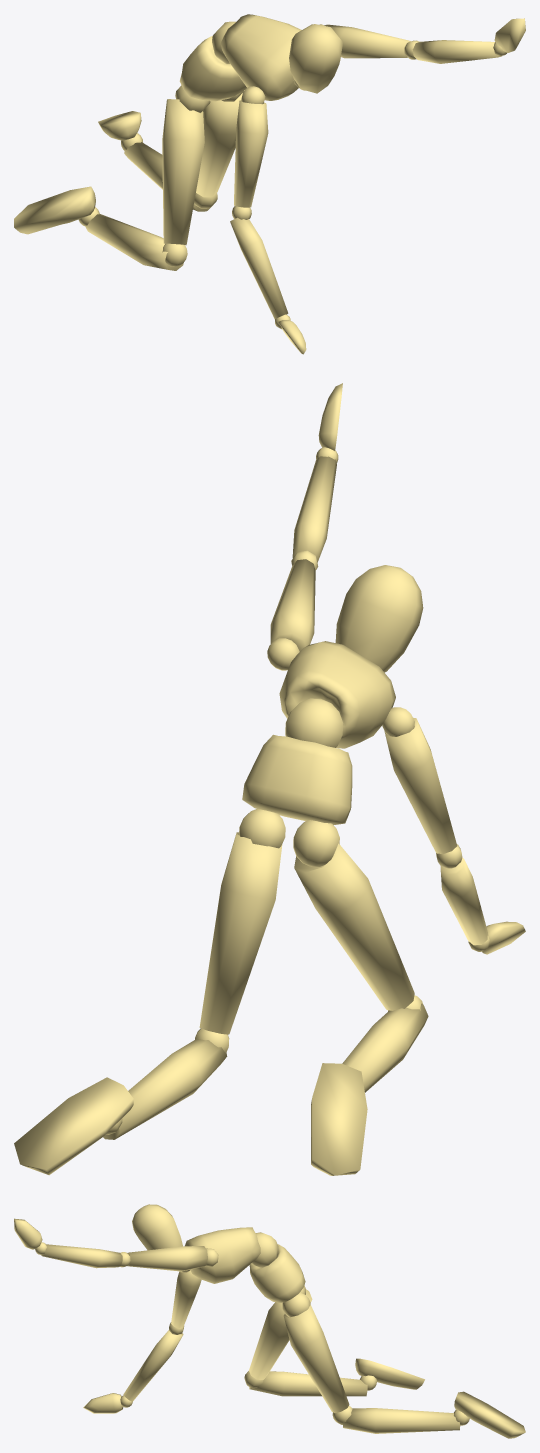
File: mann-trapped.fbx
3 views of the same model, one above another, from view 1: azimuth 30°, elevation 25°; view 2: azimuth 150°, elevation 25°; view 3: azimuth 270°, elevation 25° (orthographic). The views are drawn at different scales.
Visible parts, largest first — view 1: Cylinder.001, Cylinder.003, Cylinder.002, Cylinder.006, Cylinder.004, Sphere.008, Sphere, Cylinder, Cylinder.005, Cylinder.009, Cylinder.008, Sphere.014 (+3 smaller); view 2: Cylinder.002, Cylinder.006, Cylinder.003, Cylinder.001, Sphere.008, Sphere.014, Sphere, Cylinder.004, Cylinder.007, Cylinder, Cylinder.009, Cylinder.008 (+3 smaller); view 3: Cylinder.006, Cylinder.002, Cylinder.003, Cylinder.007, Cylinder.001, Cylinder.009, Sphere.008, Cylinder, Sphere.014, Cylinder.005, Cylinder.008, Sphere (+3 smaller).
Boxes of the visible parts, x1=… form: Cylinder.001: x1=162, y1=99, x2=204, y2=266; Cylinder.003: x1=220, y1=14, x2=323, y2=104; Cylinder.002: x1=175, y1=21, x2=246, y2=112; Cylinder.006: x1=194, y1=90, x2=244, y2=208; Cylinder.004: x1=232, y1=100, x2=268, y2=219; Sphere.008: x1=289, y1=24, x2=342, y2=93; Sphere: x1=14, y1=186, x2=99, y2=234; Cylinder: x1=85, y1=214, x2=183, y2=270; Cylinder.005: x1=230, y1=217, x2=288, y2=319; Cylinder.009: x1=324, y1=24, x2=419, y2=59; Cylinder.008: x1=412, y1=40, x2=501, y2=63; Sphere.014: x1=98, y1=111, x2=142, y2=150; Cylinder.002: x1=239, y1=698, x2=352, y2=866; Cylinder.006: x1=195, y1=832, x2=282, y2=1053; Cylinder.003: x1=267, y1=638, x2=414, y2=748; Cylinder.001: x1=294, y1=843, x2=422, y2=1011; Sphere.008: x1=335, y1=565, x2=423, y2=672; Sphere.014: x1=14, y1=1077, x2=133, y2=1175; Sphere: x1=311, y1=1063, x2=367, y2=1175; Cylinder.004: x1=384, y1=717, x2=462, y2=868; Cylinder.007: x1=103, y1=1039, x2=227, y2=1139; Cylinder: x1=342, y1=1003, x2=428, y2=1092; Cylinder.009: x1=270, y1=550, x2=318, y2=651; Cylinder.008: x1=292, y1=456, x2=336, y2=562; Cylinder.006: x1=283, y1=1305, x2=352, y2=1424; Cylinder.002: x1=249, y1=1232, x2=310, y2=1317; Cylinder.003: x1=179, y1=1227, x2=260, y2=1283; Cylinder.007: x1=343, y1=1408, x2=460, y2=1433; Cylinder.001: x1=244, y1=1289, x2=312, y2=1388; Cylinder.009: x1=120, y1=1246, x2=207, y2=1271; Sphere.008: x1=132, y1=1204, x2=182, y2=1250; Cylinder: x1=249, y1=1371, x2=367, y2=1396; Sphere.014: x1=454, y1=1391, x2=525, y2=1438; Cylinder.005: x1=123, y1=1330, x2=183, y2=1401; Cylinder.008: x1=41, y1=1244, x2=122, y2=1268; Sphere: x1=355, y1=1358, x2=424, y2=1390.
Bounding box in the file's own units: 58.34 × 69.88 × 122.
